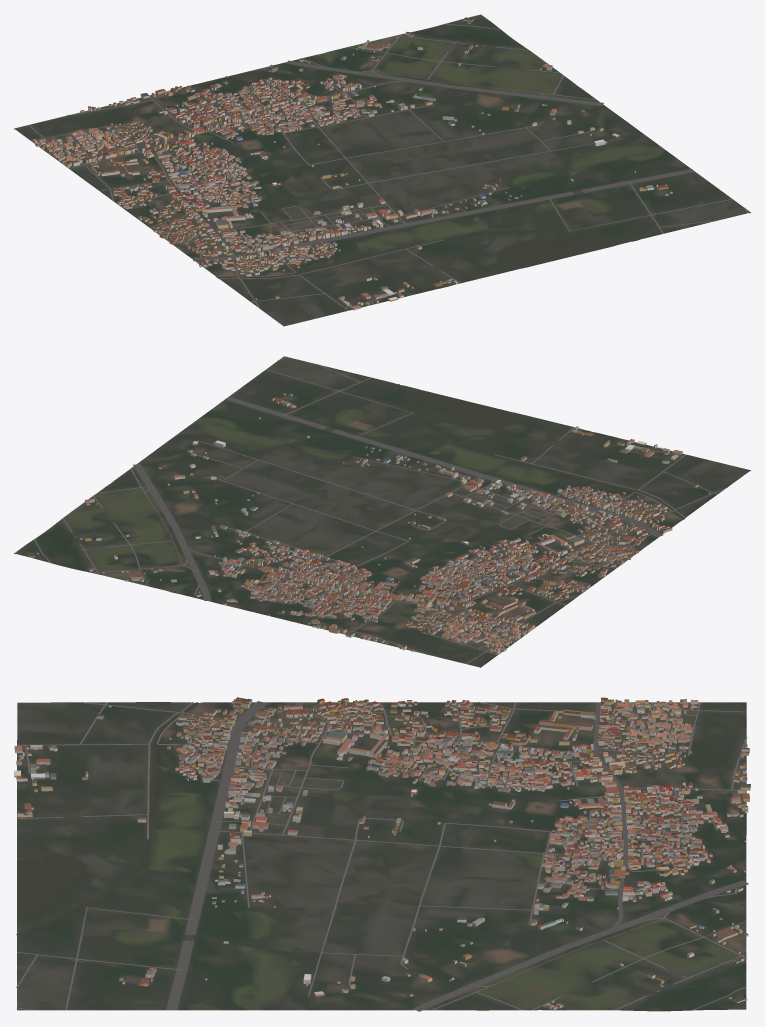
The picture shows the model from 3 angles, top to bottom: view 1: azimuth 30°, elevation 25°; view 2: azimuth 150°, elevation 25°; view 3: azimuth 270°, elevation 25°; orthographic projection. The views are drawn at different scales.
Visible parts, largest first — view 1: ground, buildings, roads, water; view 2: ground, buildings, roads, water; view 3: ground, buildings, roads, water.
Part boxes in pixels (x1=…): ground: x1=14, y1=14, x2=750, y2=326; buildings: x1=33, y1=17, x2=672, y2=310; roads: x1=28, y1=23, x2=748, y2=310; water: x1=170, y1=54, x2=636, y2=287; ground: x1=14, y1=356, x2=750, y2=667; buildings: x1=27, y1=393, x2=710, y2=654; roads: x1=33, y1=357, x2=727, y2=663; water: x1=111, y1=384, x2=684, y2=612; ground: x1=17, y1=702, x2=746, y2=1011; buildings: x1=14, y1=697, x2=750, y2=1010; roads: x1=16, y1=701, x2=748, y2=1011; water: x1=16, y1=702, x2=744, y2=1009.
Size of the model in its own units: 1414 by 19.9 by 1416.
